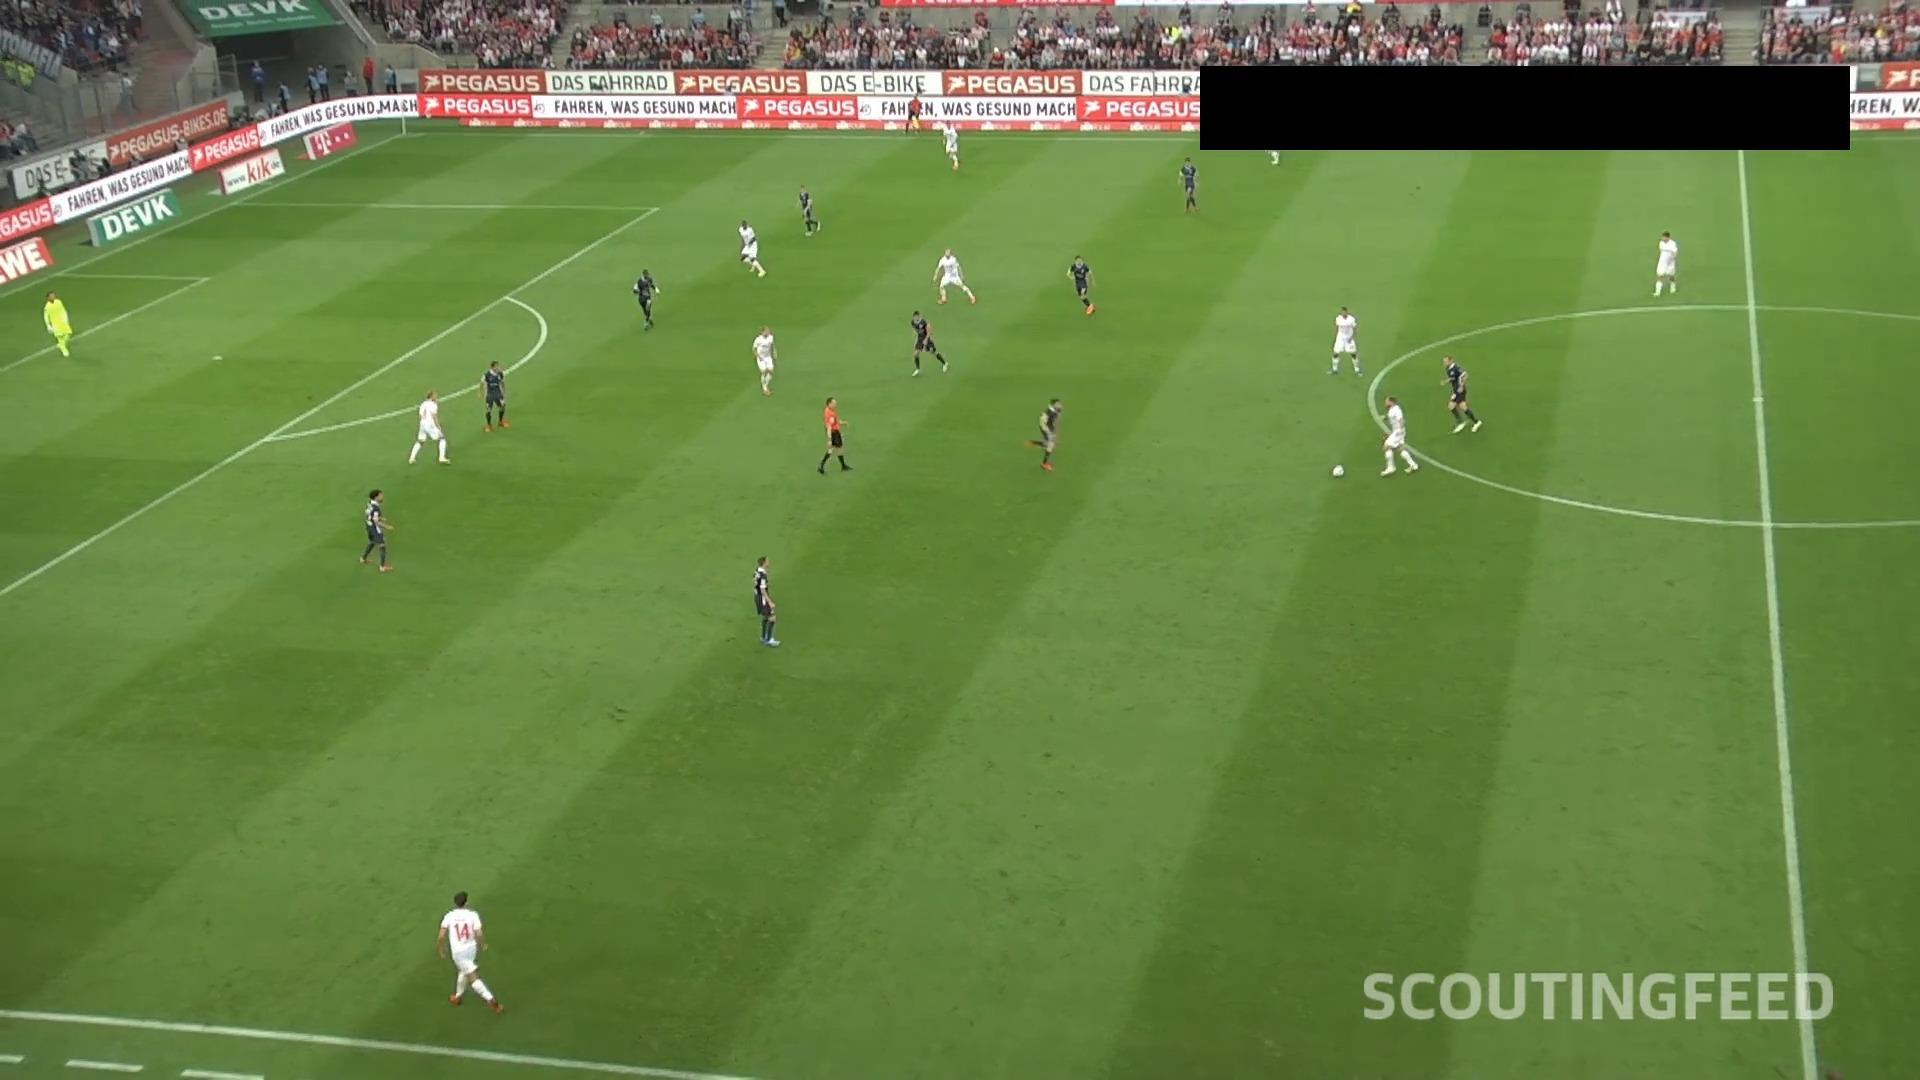ball: (1329, 463, 1346, 480)
